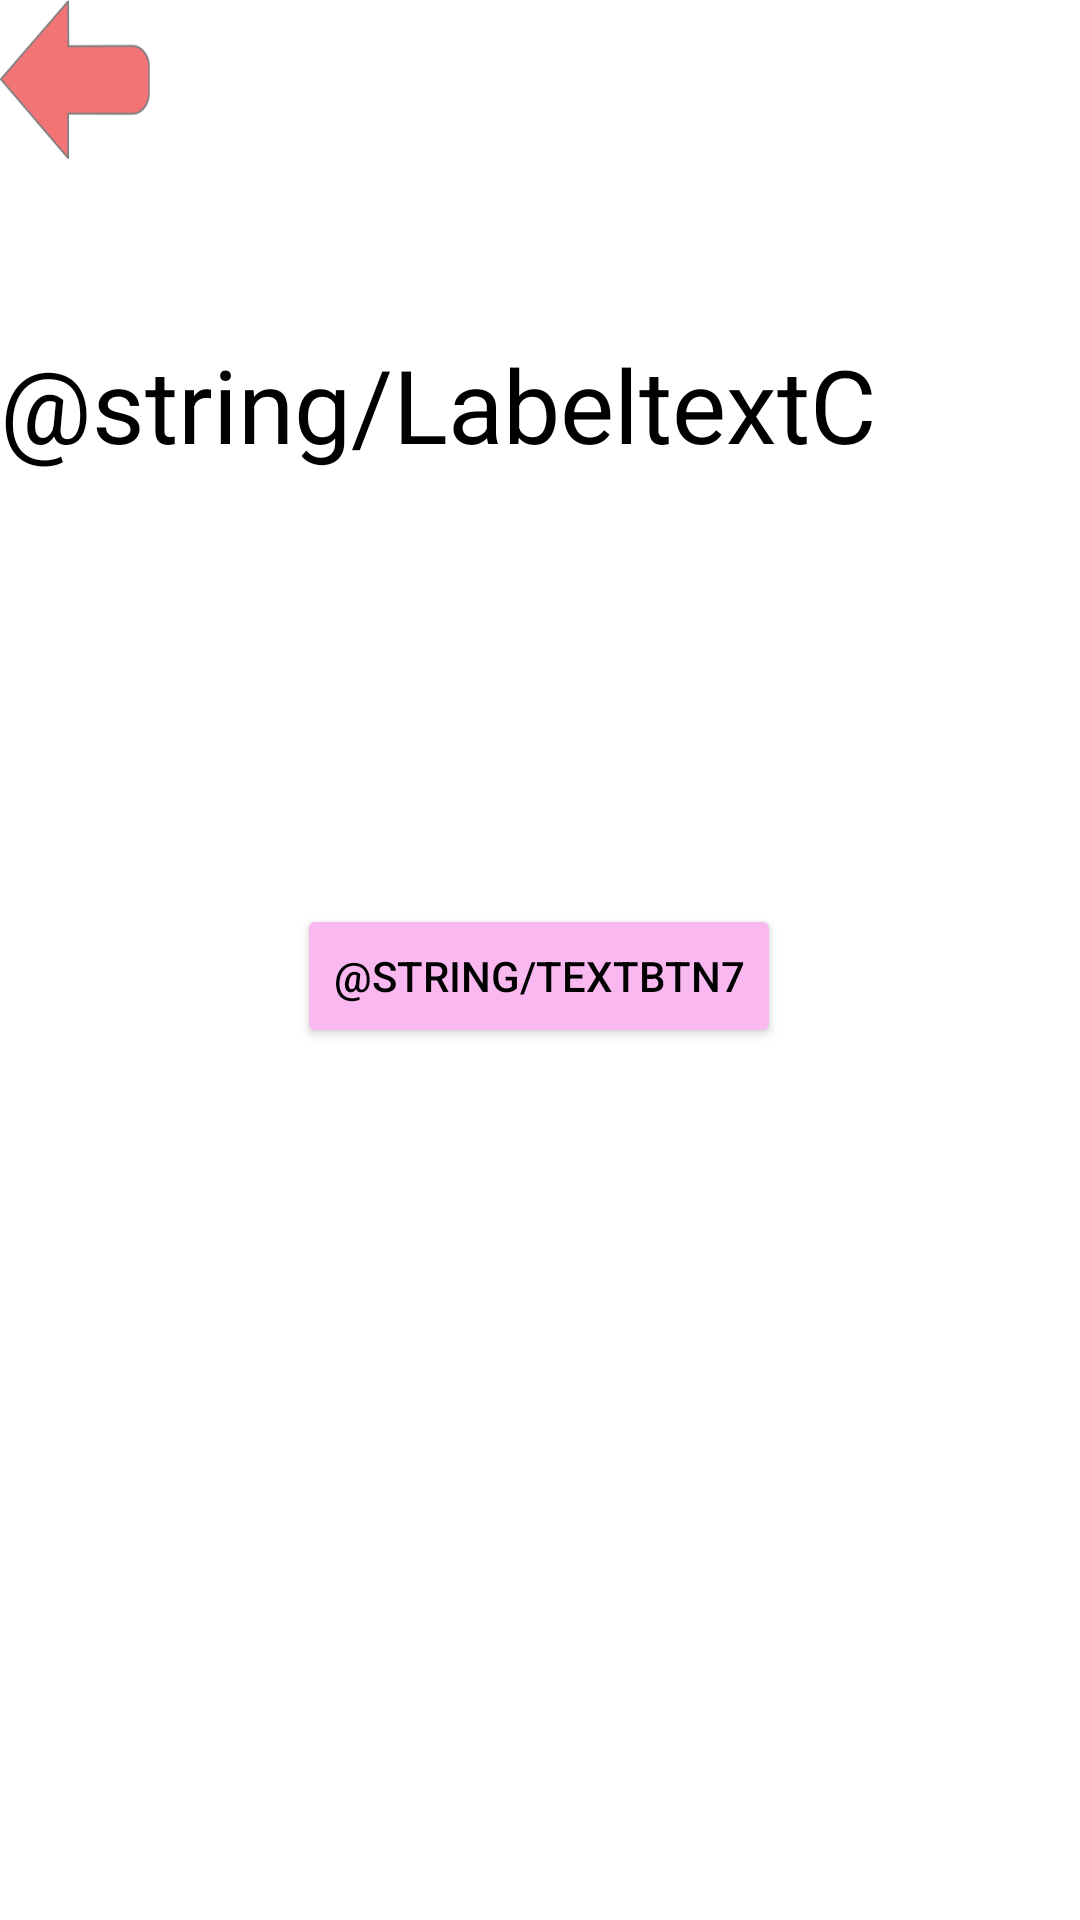

Point at icon controls on the screen. Image size 1080 × 1920, points as point (x, y).
back: point (75, 79)
